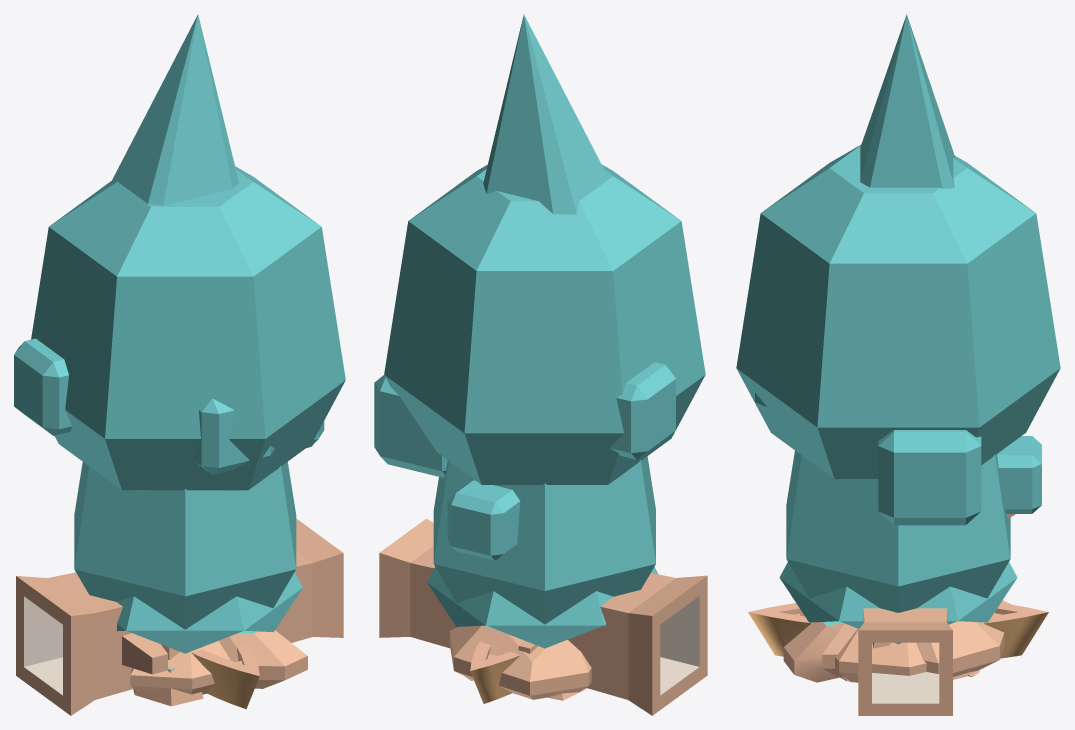
The model's file is nature.glb.
3 views of the same model, side by side, from view 1: azimuth 30°, elevation 25°; view 2: azimuth 150°, elevation 25°; view 3: azimuth 270°, elevation 25° (orthographic).
Parts seen in each view (by area): view 1: tree_oak_dark, tree_fat_darkh, log_large, tree_pineTallA_detailed, tree_detailed_dark, tree_pineRoundC, rock_largeA, rock_largeC, canoe, rock_tallB; view 2: tree_oak_dark, tree_fat_darkh, log_large, tree_detailed_dark, tree_pineTallA_detailed, rock_largeA, tree_pineRoundC, canoe; view 3: tree_oak_dark, tree_fat_darkh, tree_detailed_dark, tree_pineTallA_detailed, log_large, rock_largeA, tree_pineRoundC, canoe, rock_largeC.
Part boxes in pixels (x1=…): tree_oak_dark: x1=31, y1=166, x2=345, y2=490; tree_fat_darkh: x1=74, y1=462, x2=296, y2=629; log_large: x1=16, y1=519, x2=343, y2=715; tree_pineTallA_detailed: x1=108, y1=14, x2=238, y2=205; tree_detailed_dark: x1=14, y1=338, x2=324, y2=474; tree_pineRoundC: x1=117, y1=572, x2=302, y2=653; rock_largeA: x1=219, y1=630, x2=307, y2=688; rock_largeC: x1=130, y1=641, x2=230, y2=694; canoe: x1=191, y1=646, x2=259, y2=709; rock_tallB: x1=133, y1=644, x2=203, y2=706; tree_oak_dark: x1=384, y1=164, x2=705, y2=680; tree_fat_darkh: x1=433, y1=456, x2=655, y2=624; log_large: x1=379, y1=518, x2=707, y2=715; tree_detailed_dark: x1=374, y1=362, x2=675, y2=560; tree_pineTallA_detailed: x1=483, y1=14, x2=608, y2=214; rock_largeA: x1=449, y1=625, x2=591, y2=699; tree_pineRoundC: x1=427, y1=567, x2=658, y2=648; canoe: x1=470, y1=641, x2=520, y2=703; tree_oak_dark: x1=736, y1=145, x2=1060, y2=676; tree_fat_darkh: x1=786, y1=450, x2=1010, y2=612; tree_detailed_dark: x1=755, y1=392, x2=1041, y2=525; tree_pineTallA_detailed: x1=860, y1=14, x2=955, y2=188; log_large: x1=858, y1=608, x2=952, y2=715; rock_largeA: x1=783, y1=600, x2=1011, y2=682; tree_pineRoundC: x1=779, y1=562, x2=1017, y2=644; canoe: x1=748, y1=603, x2=1048, y2=658; rock_largeC: x1=835, y1=628, x2=926, y2=682.
Size of the model in its own units: 4.5 by 10 by 4.52.
